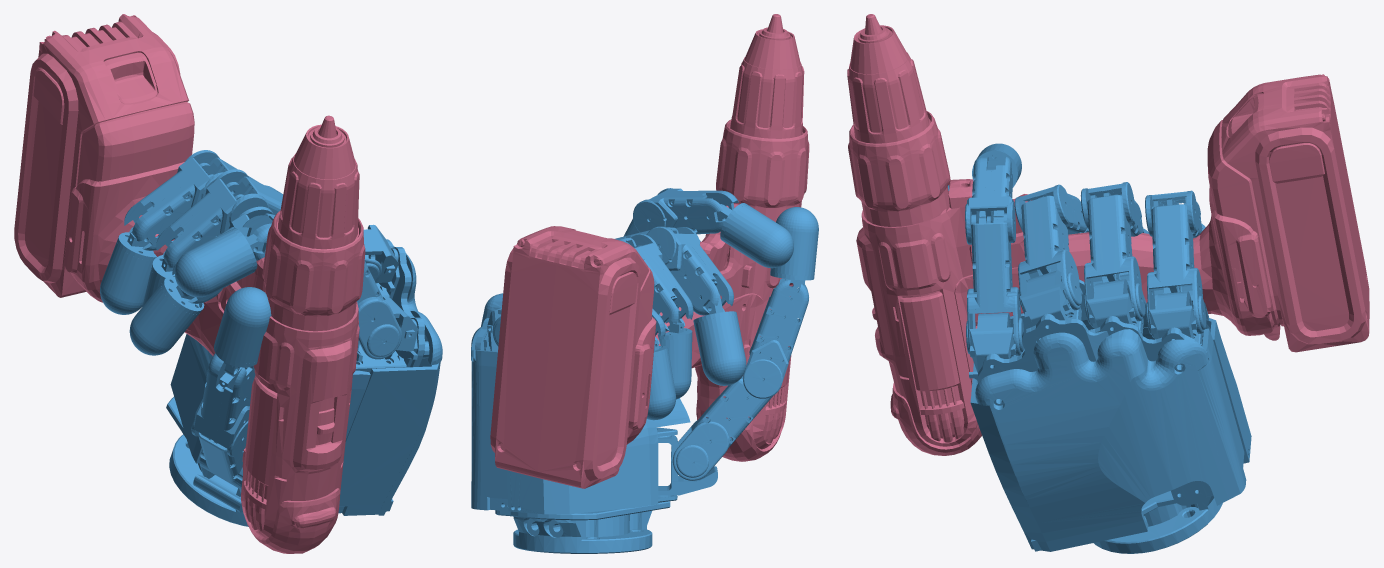
3 views of the same model, side by side, from view 1: azimuth 30°, elevation 25°; view 2: azimuth 150°, elevation 25°; view 3: azimuth 270°, elevation 25° (orthographic). The views are drawn at different scales.
Visible parts, largest first — view 1: 0; view 2: 0; view 3: 0.
Boxes of the visible parts, x1,y1,x2,y2 form: 0: [14, 14, 442, 553]; 0: [471, 14, 818, 553]; 0: [847, 14, 1369, 553].
Bounding box in the file's own units: 0.1288 × 0.2327 × 0.2262.
